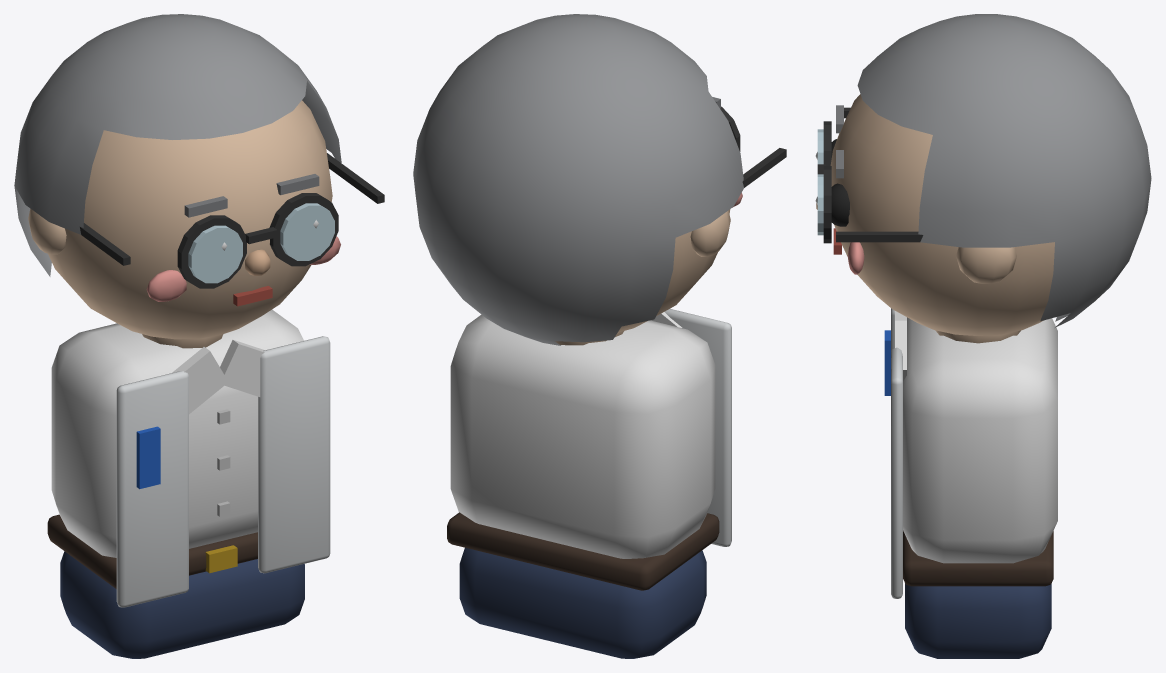
Rendered from person_e.glb.
The picture shows the model from 3 angles, left to right: view 1: azimuth 30°, elevation 25°; view 2: azimuth 150°, elevation 25°; view 3: azimuth 270°, elevation 25°; orthographic projection.
Parts seen in each view (by area): view 1: person_e; view 2: person_e; view 3: person_e.
Boxes of the visible parts, x1=… form: person_e: x1=14, y1=14, x2=384, y2=658; person_e: x1=413, y1=14, x2=786, y2=658; person_e: x1=815, y1=14, x2=1151, y2=658.
Size of the model in its own units: 0.1631 by 0.322 by 0.165.
